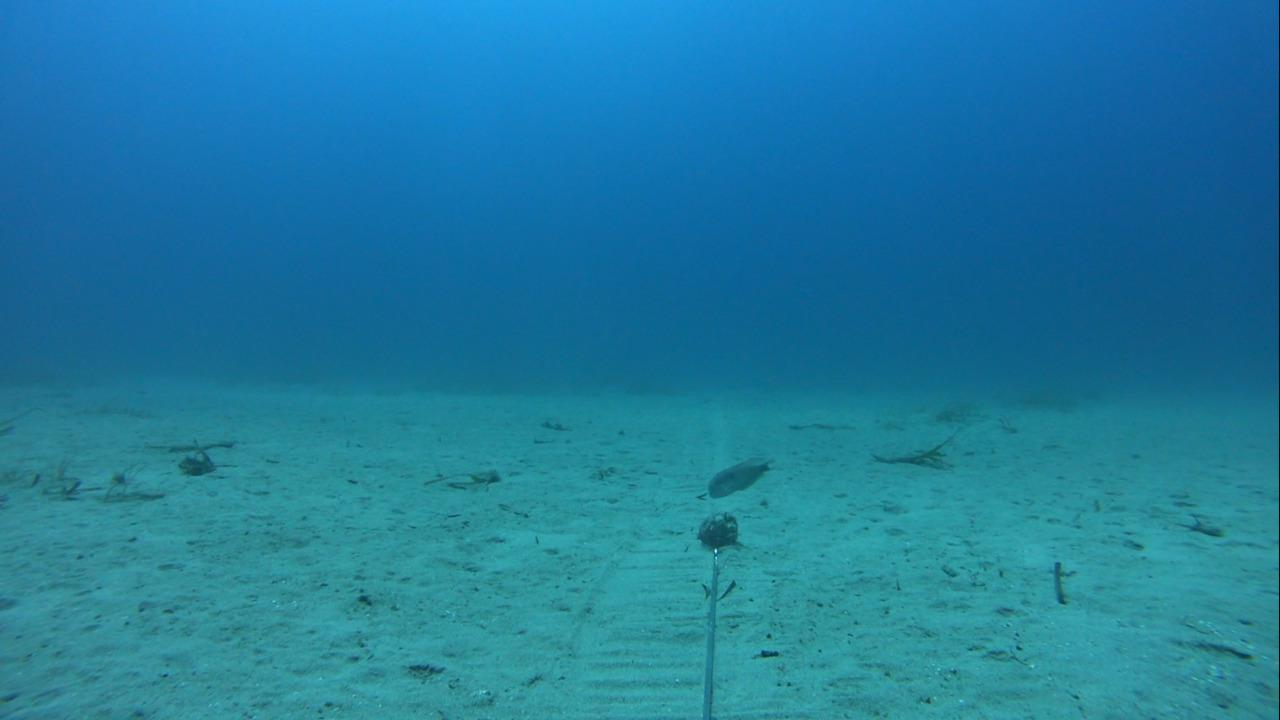raor: (704, 451, 776, 499)
